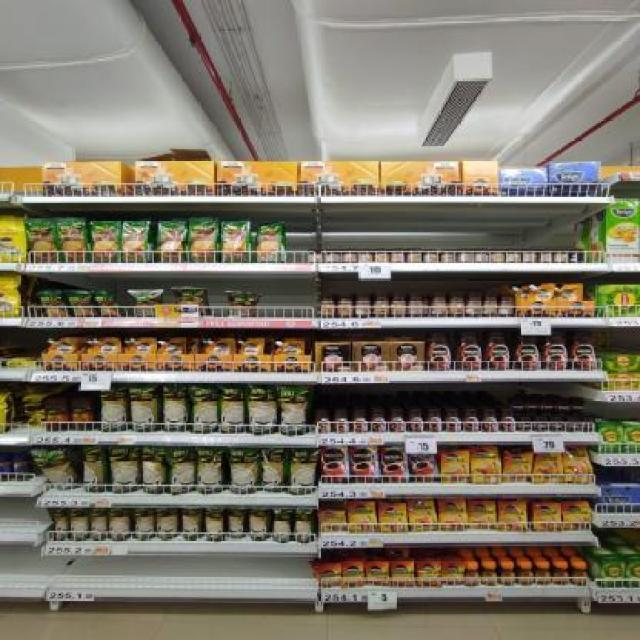Coffee: (318, 445, 350, 484), (470, 447, 502, 484), (380, 445, 409, 482), (571, 330, 597, 371), (351, 447, 380, 483), (485, 331, 510, 372), (439, 451, 470, 484), (426, 332, 452, 371), (564, 447, 592, 483), (515, 330, 539, 371), (457, 331, 481, 372), (409, 446, 436, 482), (544, 330, 568, 370), (534, 450, 562, 484), (410, 498, 437, 532), (468, 499, 497, 530), (499, 501, 528, 532), (379, 502, 408, 533), (439, 498, 466, 531), (348, 501, 376, 532), (534, 502, 562, 533), (504, 452, 531, 482), (562, 501, 589, 530), (316, 511, 347, 532), (416, 560, 440, 587), (441, 560, 465, 586), (391, 561, 415, 587), (341, 562, 365, 588), (366, 561, 390, 586), (316, 565, 340, 588), (333, 409, 350, 433), (408, 409, 424, 434), (443, 411, 462, 432), (534, 564, 552, 586), (388, 410, 405, 433), (481, 410, 498, 433), (426, 410, 443, 433), (570, 565, 588, 586), (517, 564, 534, 586), (500, 410, 516, 433), (371, 410, 387, 433), (352, 410, 368, 433), (464, 410, 480, 432), (315, 410, 331, 432), (553, 564, 569, 586), (481, 564, 497, 586), (500, 565, 516, 586), (465, 565, 480, 586), (517, 418, 532, 432), (557, 401, 571, 414), (551, 419, 564, 432), (535, 419, 548, 432), (512, 400, 526, 412), (584, 418, 596, 431), (528, 400, 540, 412), (542, 400, 554, 412), (568, 420, 580, 432), (574, 401, 586, 412)
